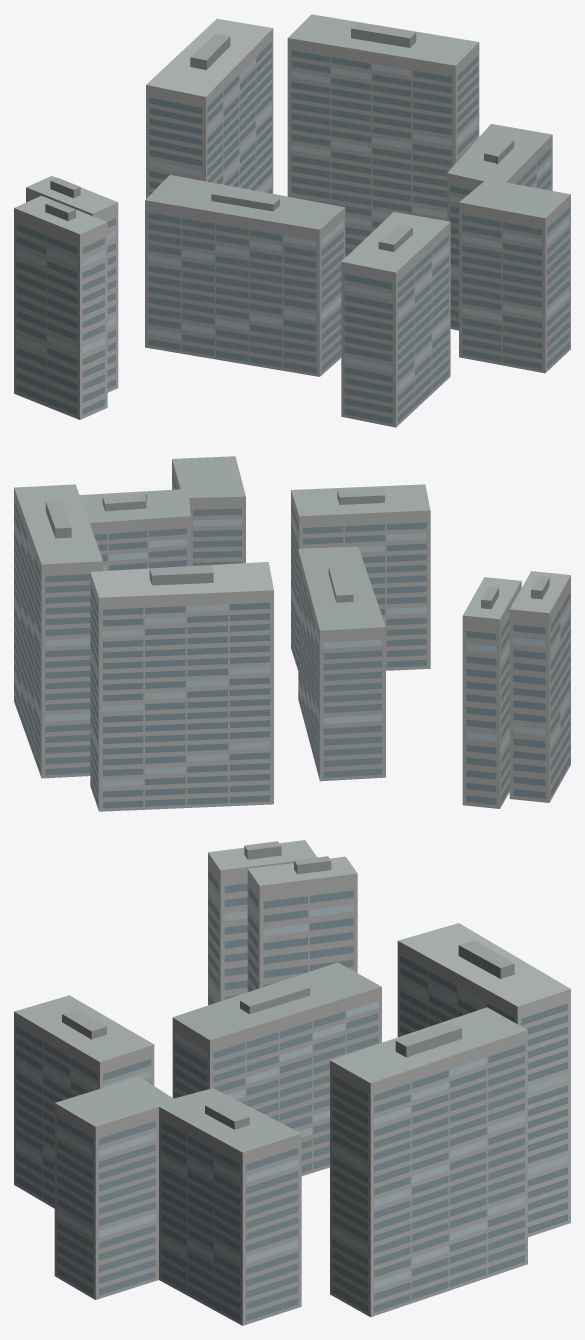
Rendered from apt-a15210106.glb.
3 renders of one model, top to bottom at view 1: azimuth 30°, elevation 25°; view 2: azimuth 150°, elevation 25°; view 3: azimuth 270°, elevation 25°, orthographic. The views are drawn at different scales.
Parts seen in each view (by area): view 1: apt-a15210106; view 2: apt-a15210106; view 3: apt-a15210106.
Boxes of the visible parts, x1,y1,x2,y2 form: apt-a15210106: (14,14,570,427); apt-a15210106: (14,456,570,811); apt-a15210106: (14,840,570,1325).
Bounding box in the file's own units: 132 × 54 × 111.
